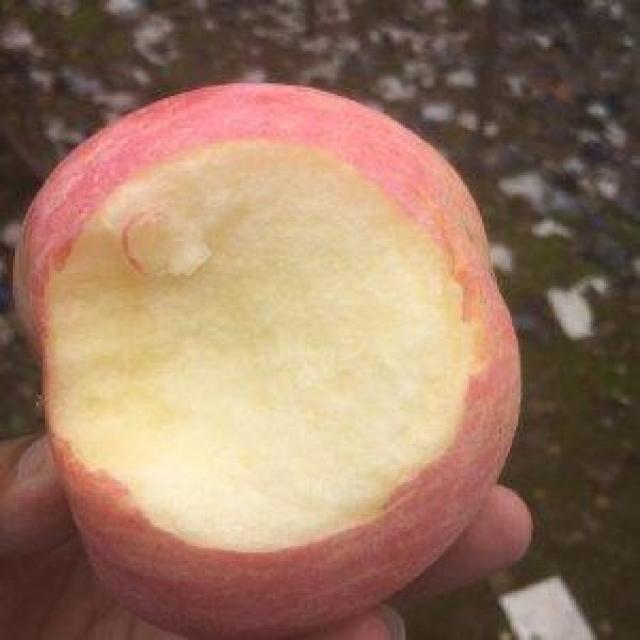Rotten: (15, 71, 523, 635)
